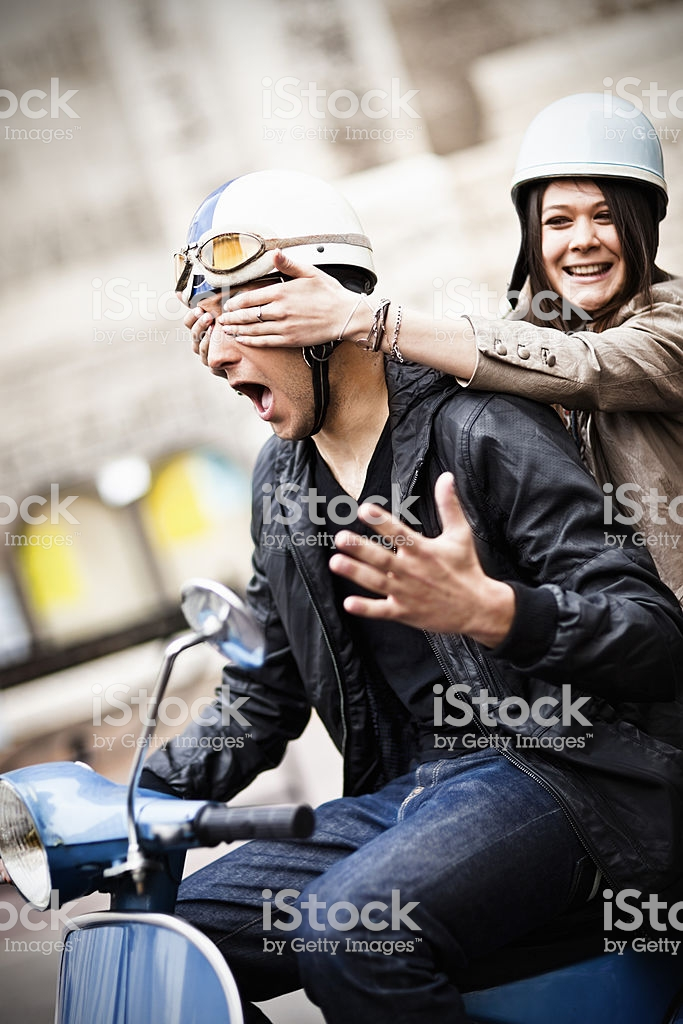helmet: (153, 161, 380, 306), (483, 76, 677, 187)
